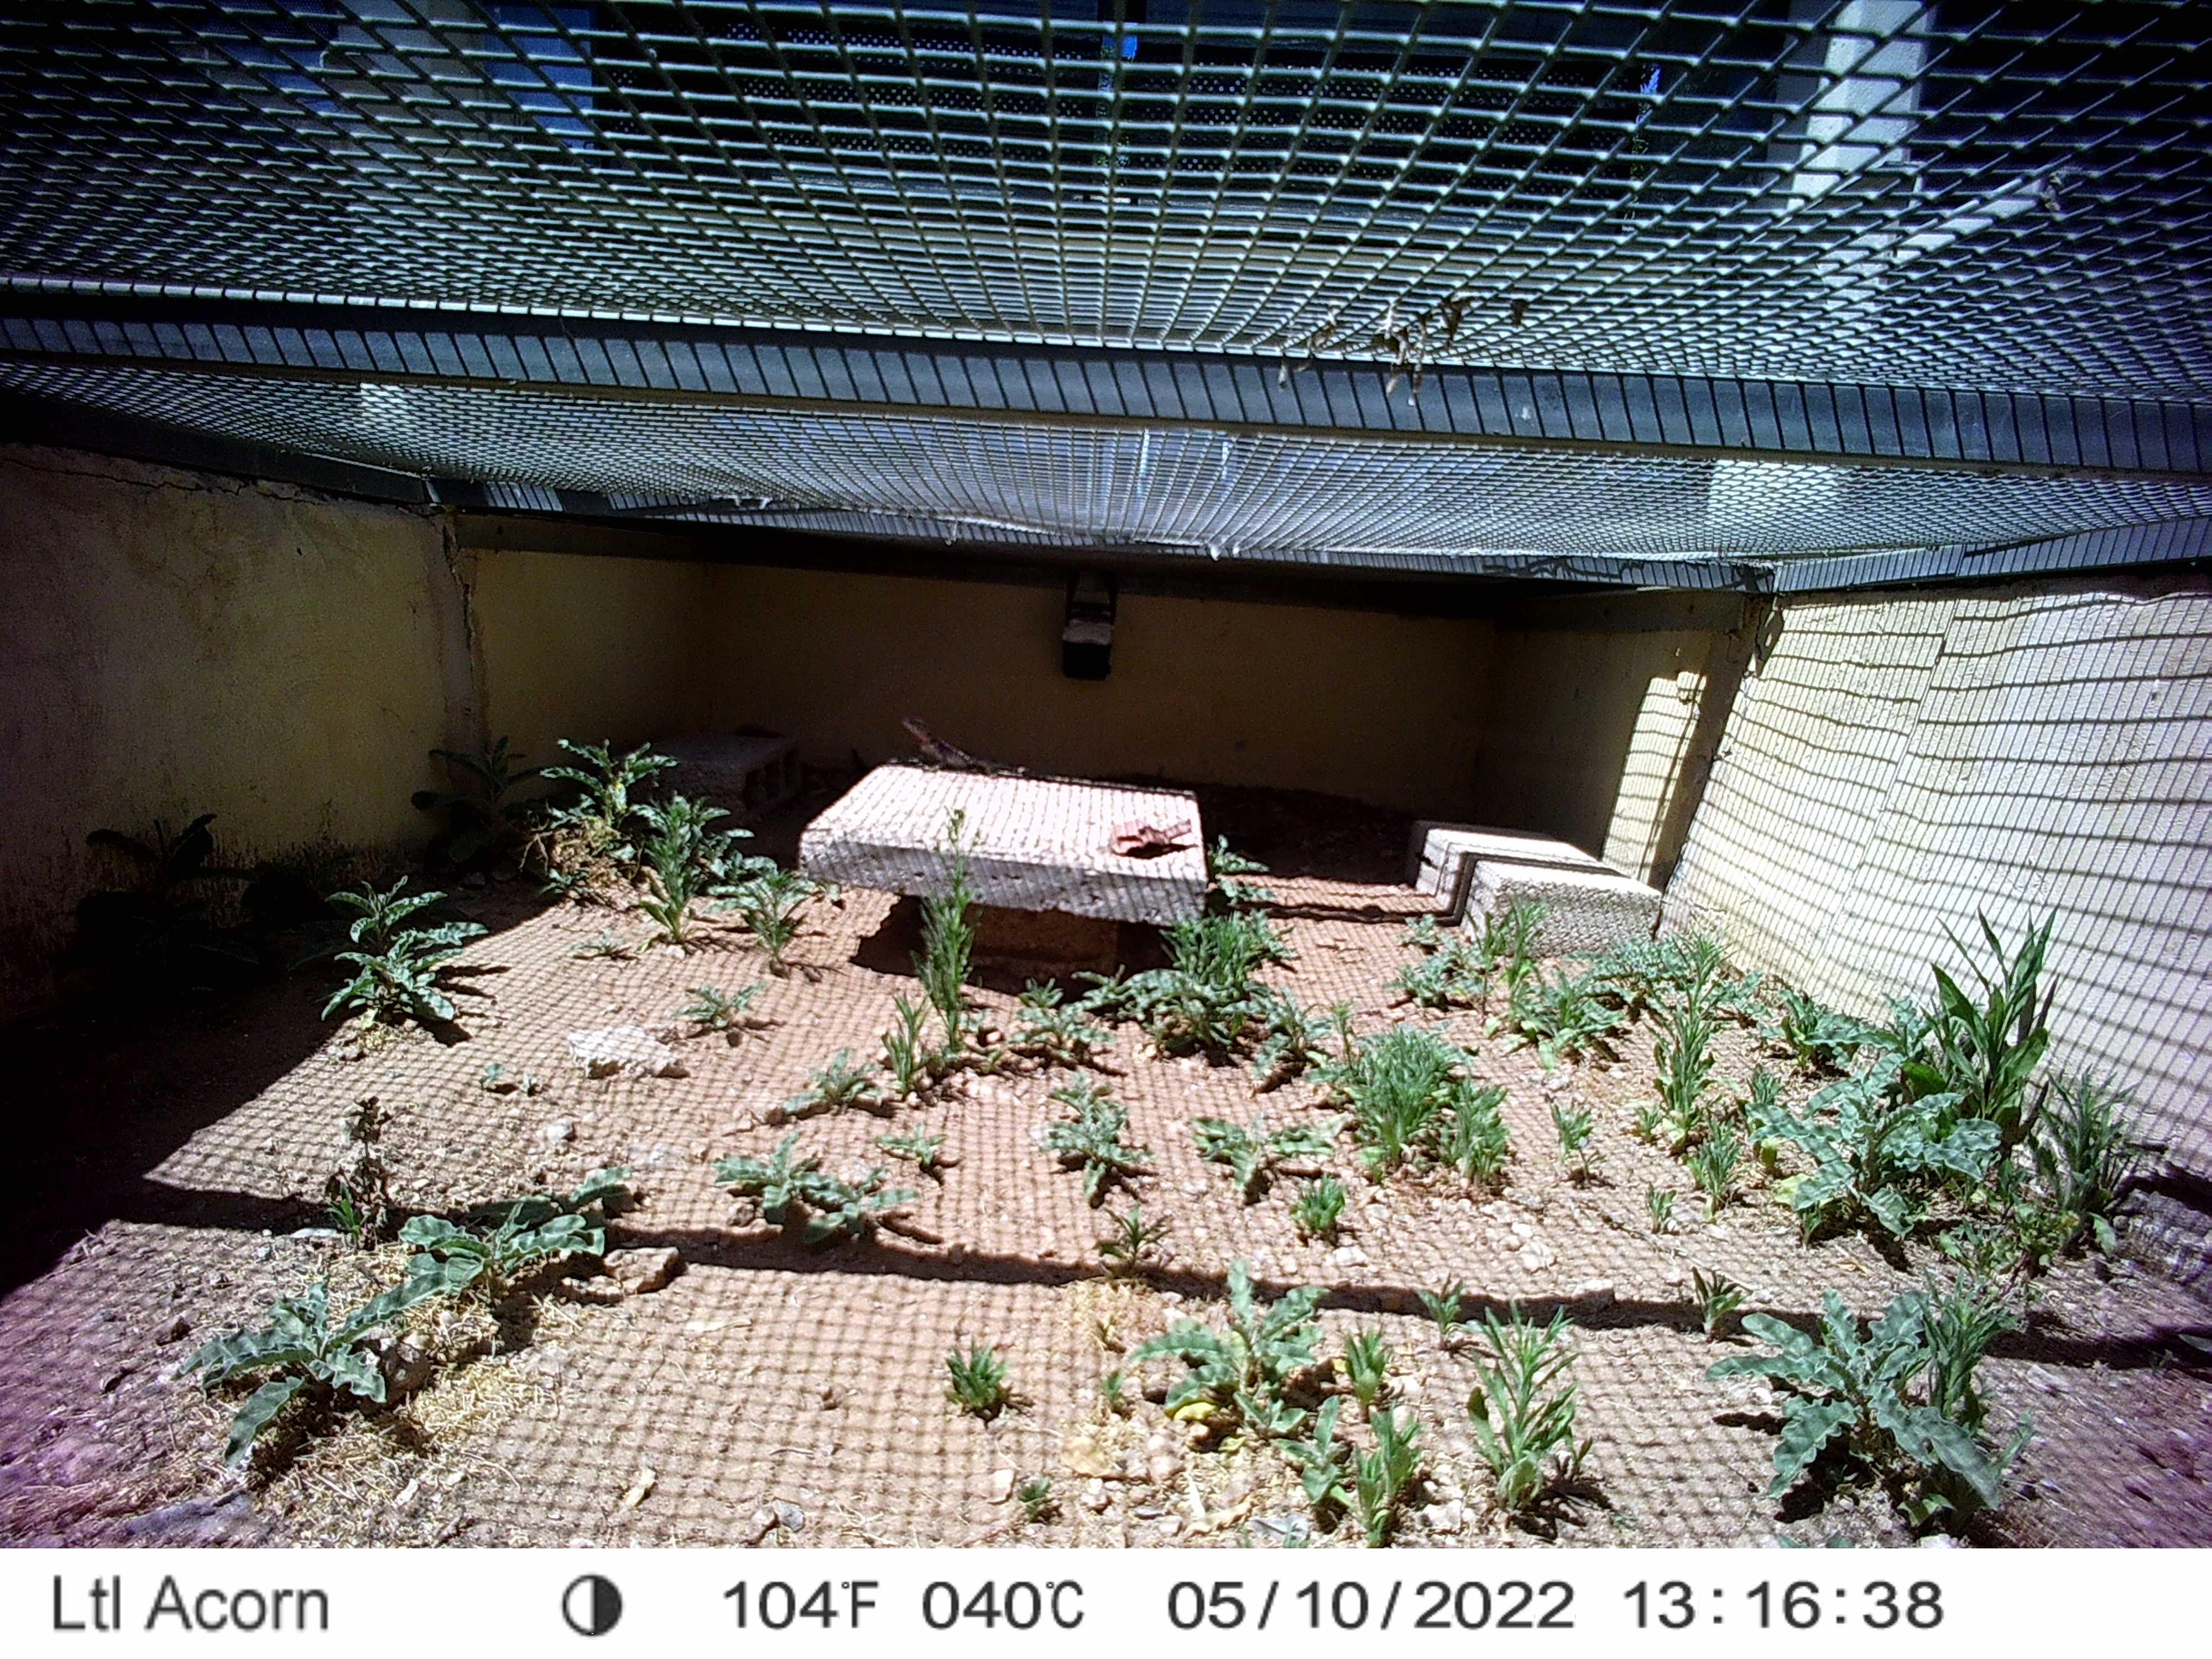lizard: (890, 714, 1028, 782)
